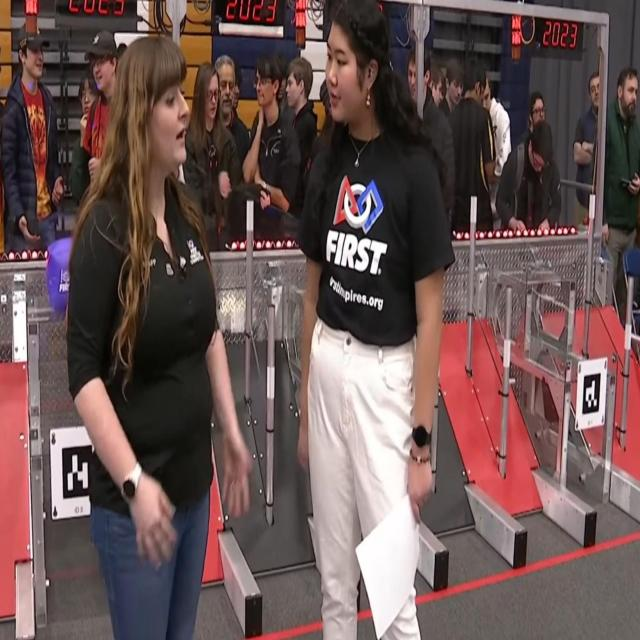frc_cube: (48, 240, 74, 310)
